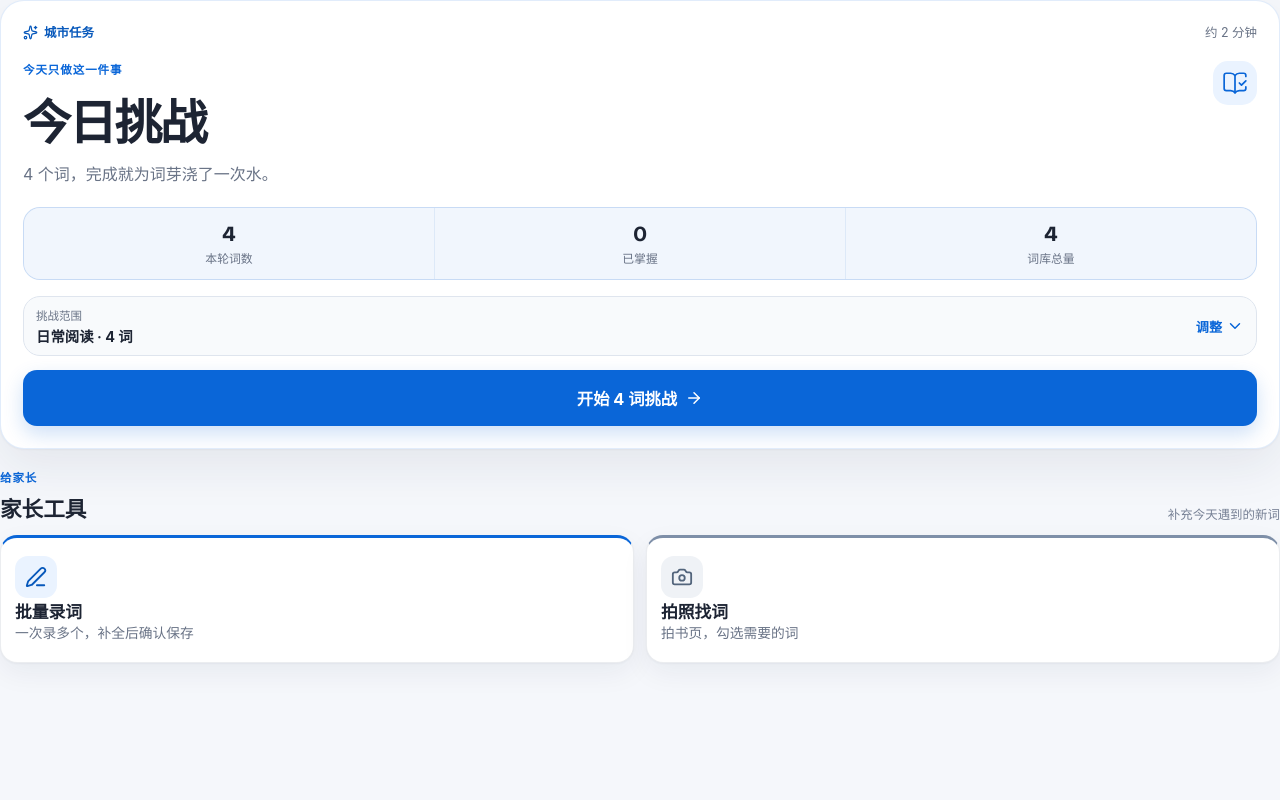
Test: HomePage › excludes empty libraries from the default challenge range
Expected: the checkbox labelled "绘本" is not shown
Expected: the text "日常阅读 · 4 词" is shown, [36,324,133,346]
Click the button with aria-label "调整挑战范围" at [59, 316], box [24,297,1256,355]
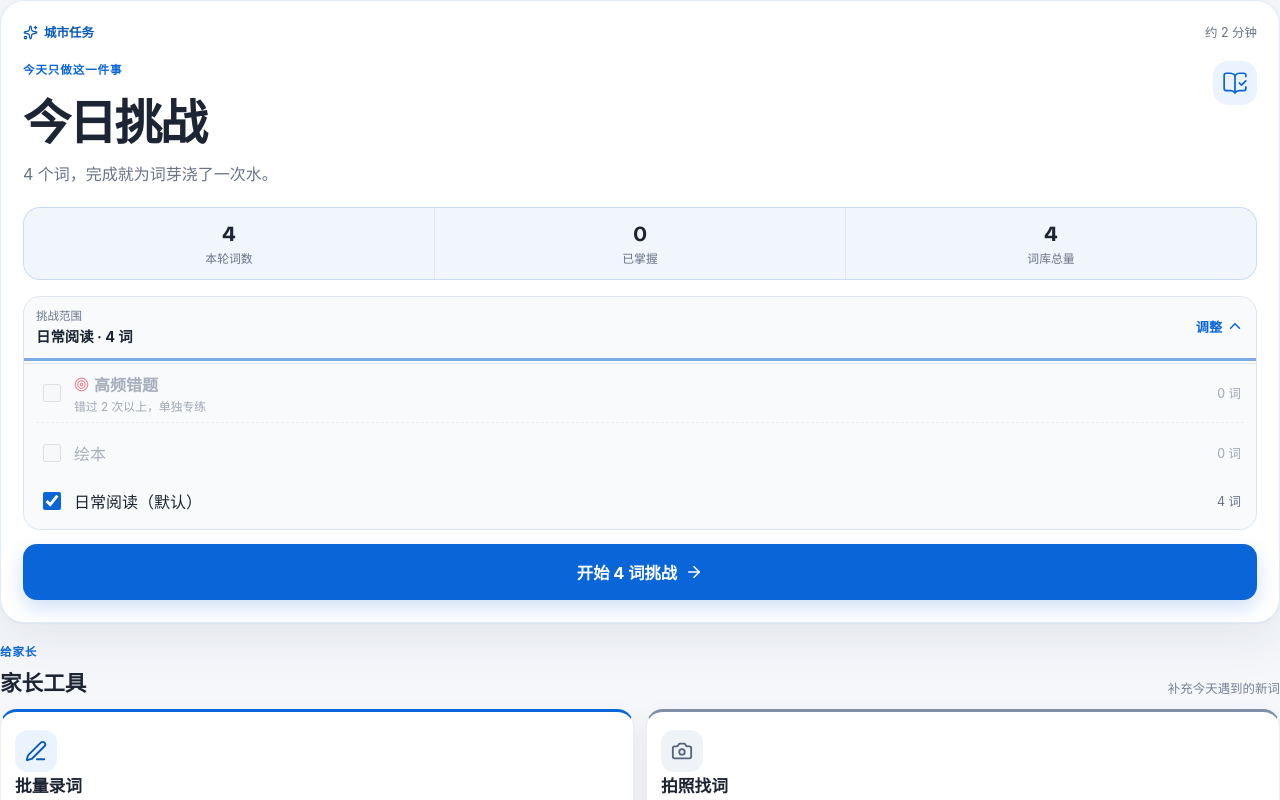
Result: the button with aria-label "调整挑战范围" is expanded at [24,297,1256,355]
Result: the checkbox labelled "绘本 0 词" is disabled at [43,444,61,462]
Result: the checkbox labelled "绘本 0 词" is not checked at [43,444,61,462]
